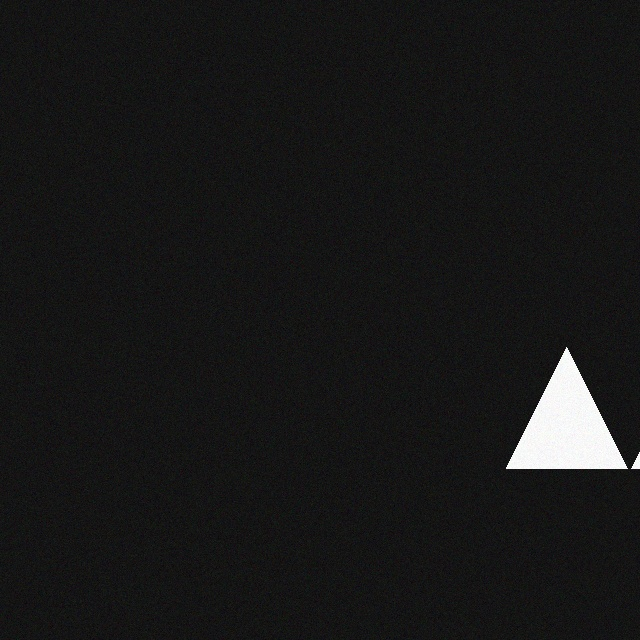triangle: (516, 345, 637, 466)
